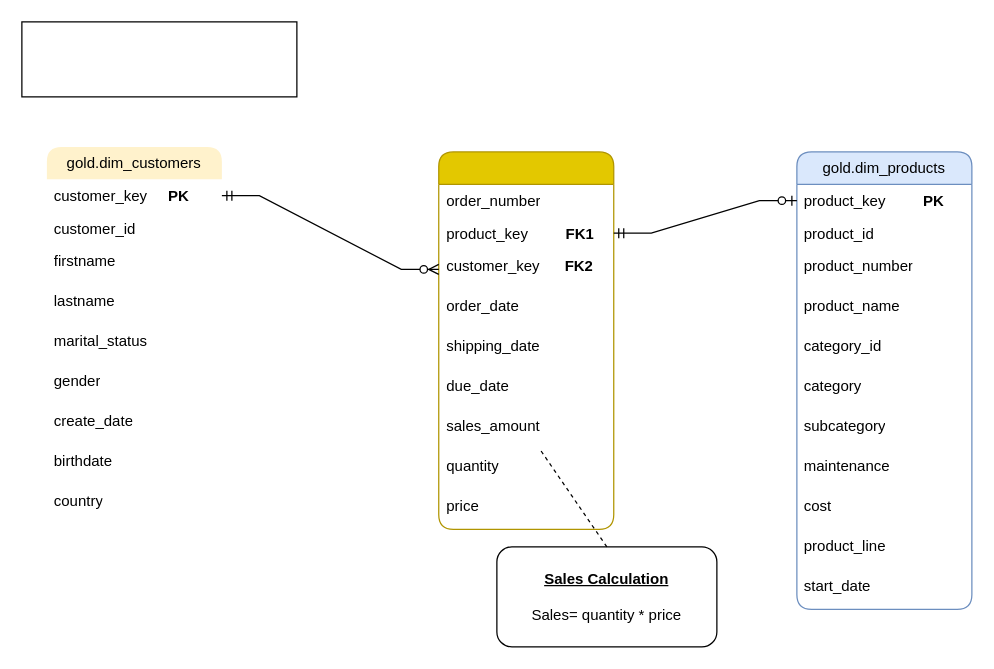
This 994x669 diagram has some shape labels left out. Each missing label, with the box of its shape:
fact_sales: (438, 151, 614, 529)
Sales Data Mart (Star Schema): (21, 21, 297, 97)
